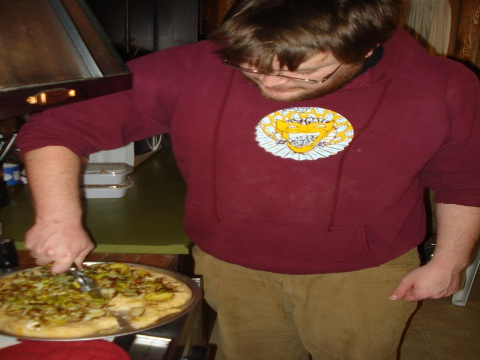hand: (23, 220, 97, 274), (388, 261, 462, 302)
